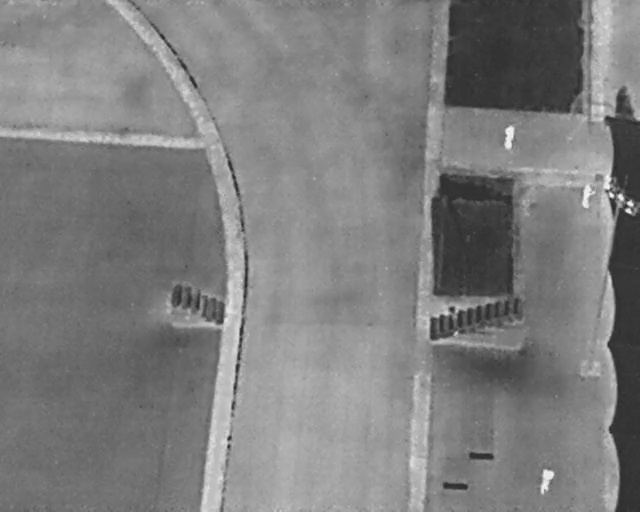Person: (536, 463, 557, 496), (579, 182, 597, 210), (501, 122, 517, 151)
